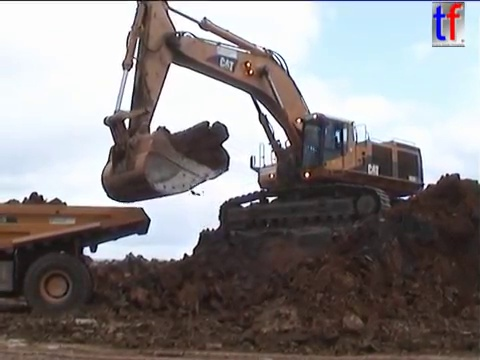excavator: (94, 1, 431, 238)
truck: (1, 200, 156, 322)
